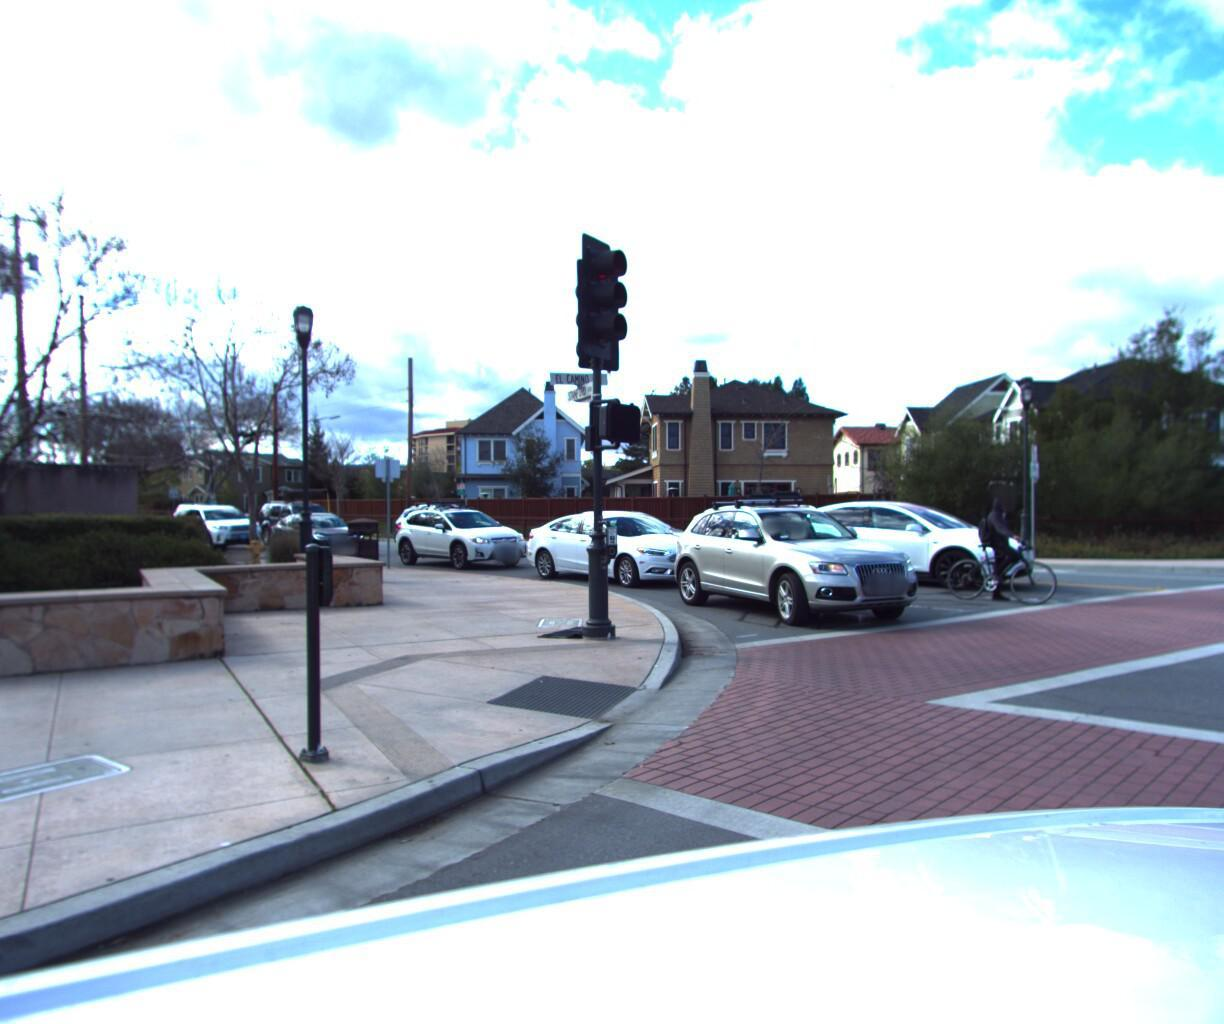bicycle: (939, 491, 1076, 608)
car: (660, 492, 954, 630), (764, 485, 1059, 595), (518, 508, 730, 590), (541, 506, 719, 569), (387, 496, 538, 570), (388, 499, 522, 555), (249, 494, 355, 546), (162, 502, 269, 553), (257, 508, 366, 557)
